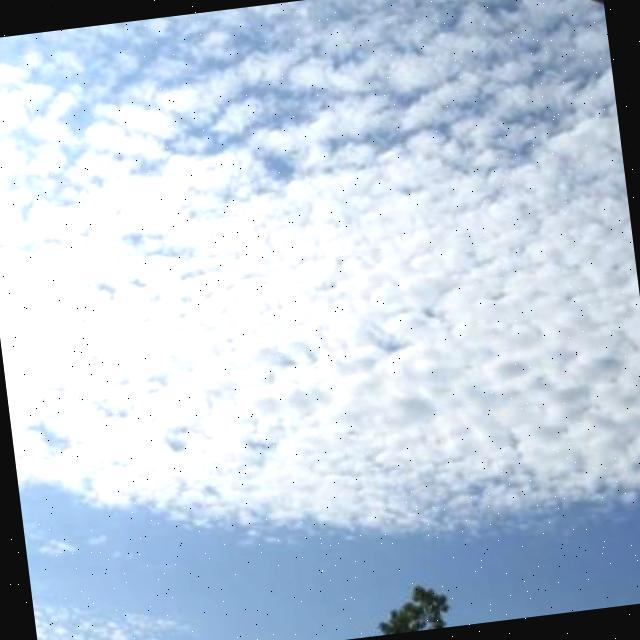Ac: (1, 53, 640, 562)
